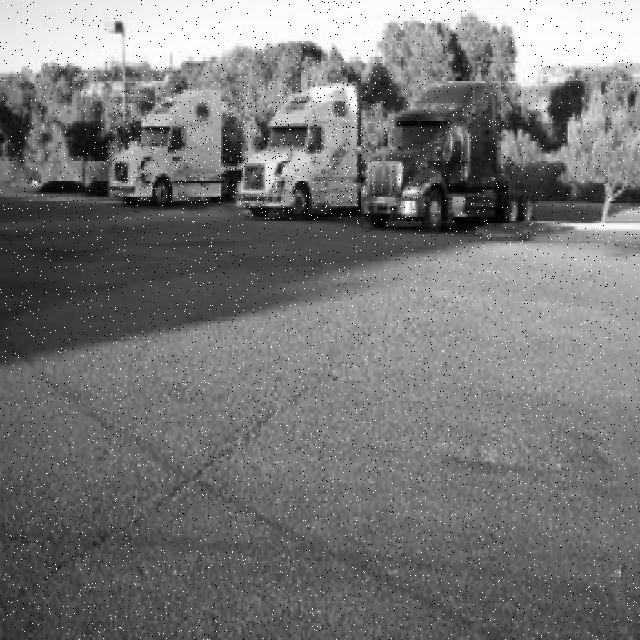Tractor Trailer: (361, 82, 514, 228), (237, 84, 367, 219), (109, 90, 241, 206)
